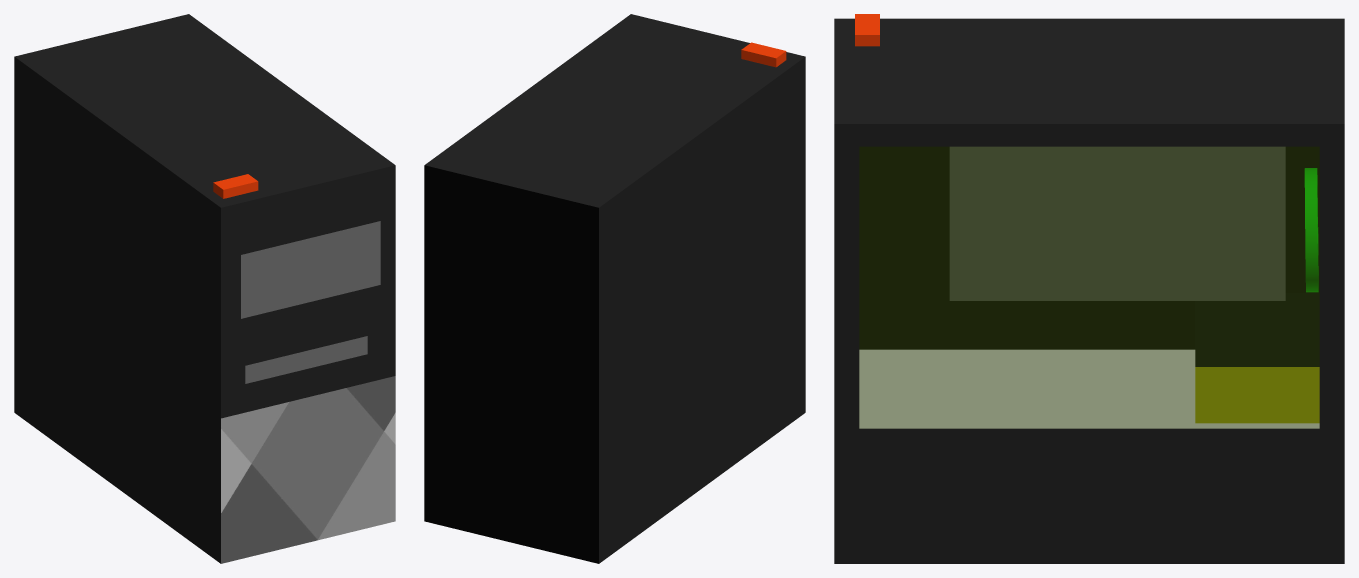
The picture shows the model from 3 angles, left to right: view 1: azimuth 30°, elevation 25°; view 2: azimuth 150°, elevation 25°; view 3: azimuth 270°, elevation 25°; orthographic projection. The views are drawn at different scales.
Parts seen in each view (by area): view 1: SketchUp (×5); view 2: SketchUp (×3); view 3: SketchUp (×8).
Boxes of the visible parts, left/top/right/bottom form: SketchUp (×5): left=14, top=14, right=395, bottom=563; SketchUp (×3): left=424, top=14, right=805, bottom=563; SketchUp (×8): left=834, top=14, right=1344, bottom=563.
Size of the model in its own units: 7.87 by 16.14 by 15.75.
Materials: 9 (1 with a texture image).
